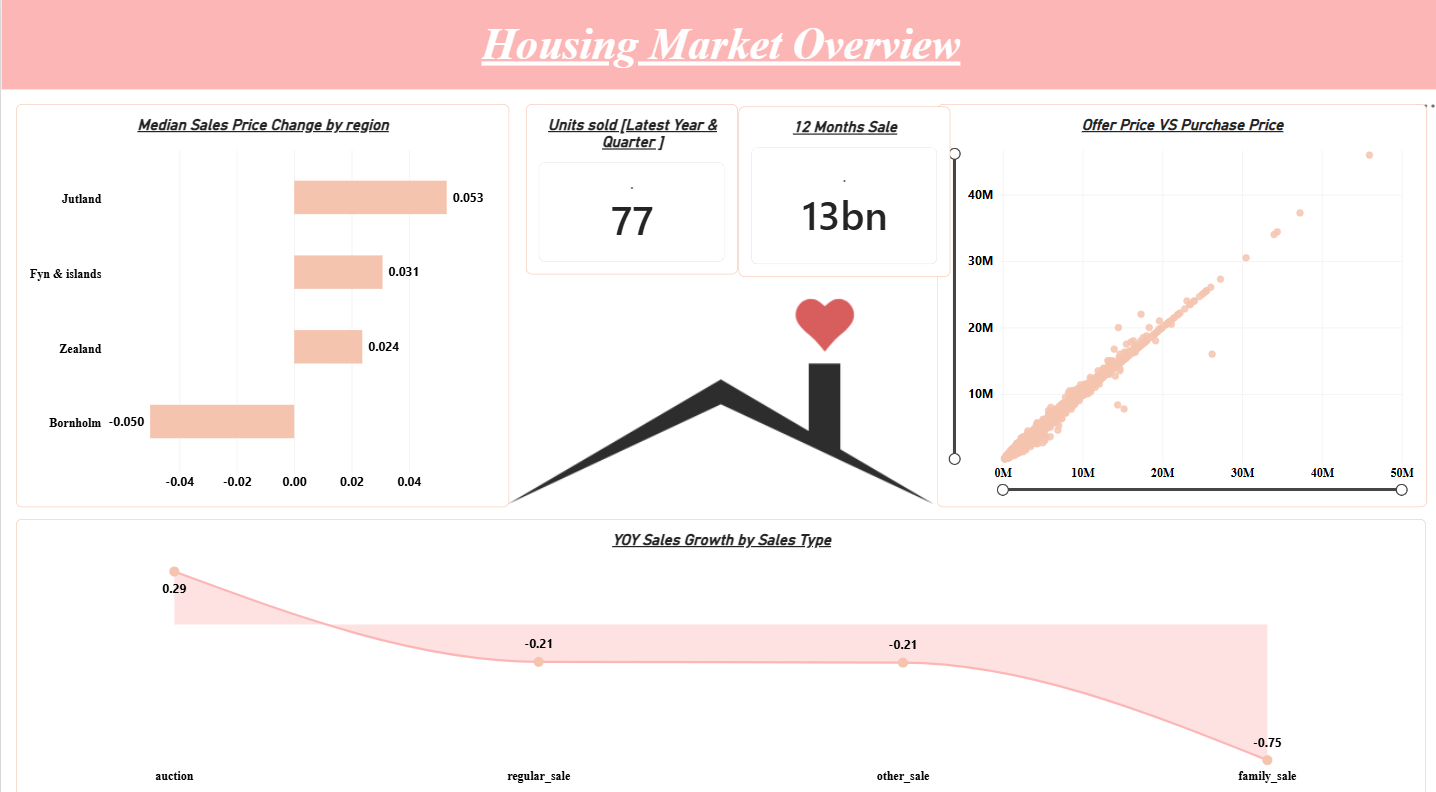

The page's visual inventory and layout, read from the dashboard file:
{"tool":"powerbi","page":{"name":"House Market","canvas":[1920,1080],"ordinal":0},"visuals":[{"type":"shape","box":[0,0,1920.1,121.2],"z":0},{"type":"lineChart","title":"YOY Sales Growth by Sales Type ","fields":{"Category":["Housing.sales_type"],"Y":["Measures Table 1.YOY_Sales_Growth"]},"box":[20,694,1880,372],"z":1000},{"type":"scatterChart","title":"Offer Price VS Purchase Price","fields":{"X":["Housing.Offer Price"],"Y":["Housing.purchase_price"]},"box":[1247.5,140,652.5,537.5],"z":2000},{"type":"barChart","fields":{"Category":["Housing.region"],"Y":["Measures Table 1.Median Sales Price Change"]},"box":[20,140,657.5,537.5],"z":3000},{"type":"cardVisual","title":"Units sold [Latest Year & Quarter ]","fields":{"Data":["Measures Table 1.Units sold in latest year & Quarter"]},"box":[700,140,282.5,227.5],"z":4000},{"type":"cardVisual","title":"12 Months Sale ","fields":{"Data":["Measures Table 1.Last 12 Months sale"]},"box":[982.5,142.5,282.5,227.5],"z":4001}]}

Visuals, with their boxes in screenshot pixels (x1, y1, x2, y2), scaled from the page's 1920x1080 canvas onto the 1436x792 screenshot:
shape: 0/0/1435/89
"YOY Sales Growth by Sales Type " lineChart: 15/509/1421/782
"Offer Price VS Purchase Price" scatterChart: 933/103/1421/497
barChart - Housing.region x Measures Table 1.Median Sales Price Change: 15/103/507/497
"Units sold [Latest Year & Quarter ]" cardVisual: 524/103/735/270
"12 Months Sale " cardVisual: 735/104/946/271
